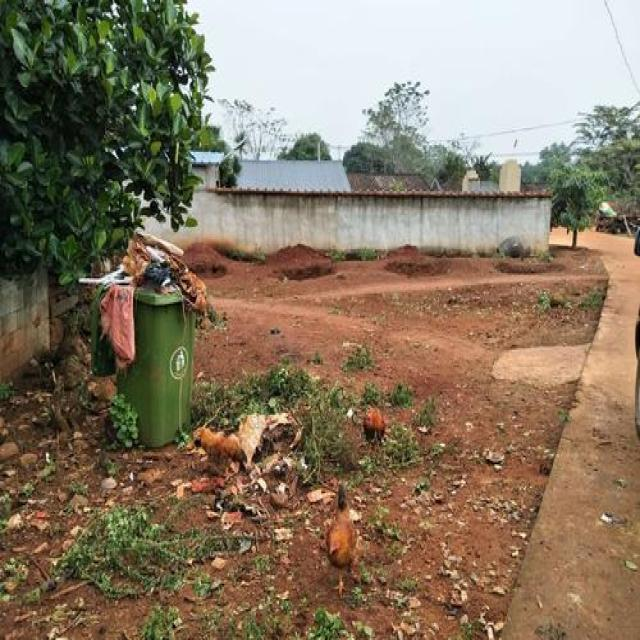overflow: (78, 227, 210, 445)
